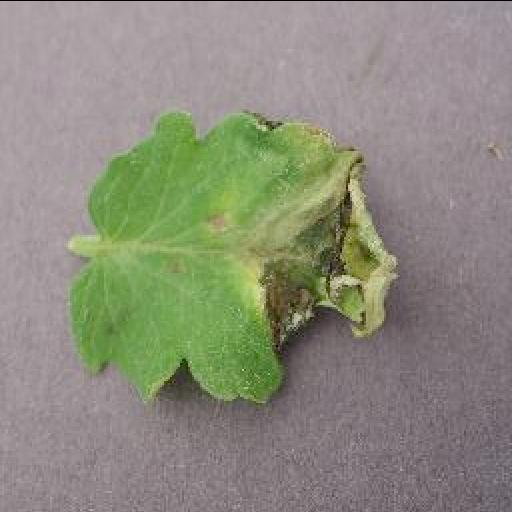disease_tomato: (70, 104, 398, 406)
